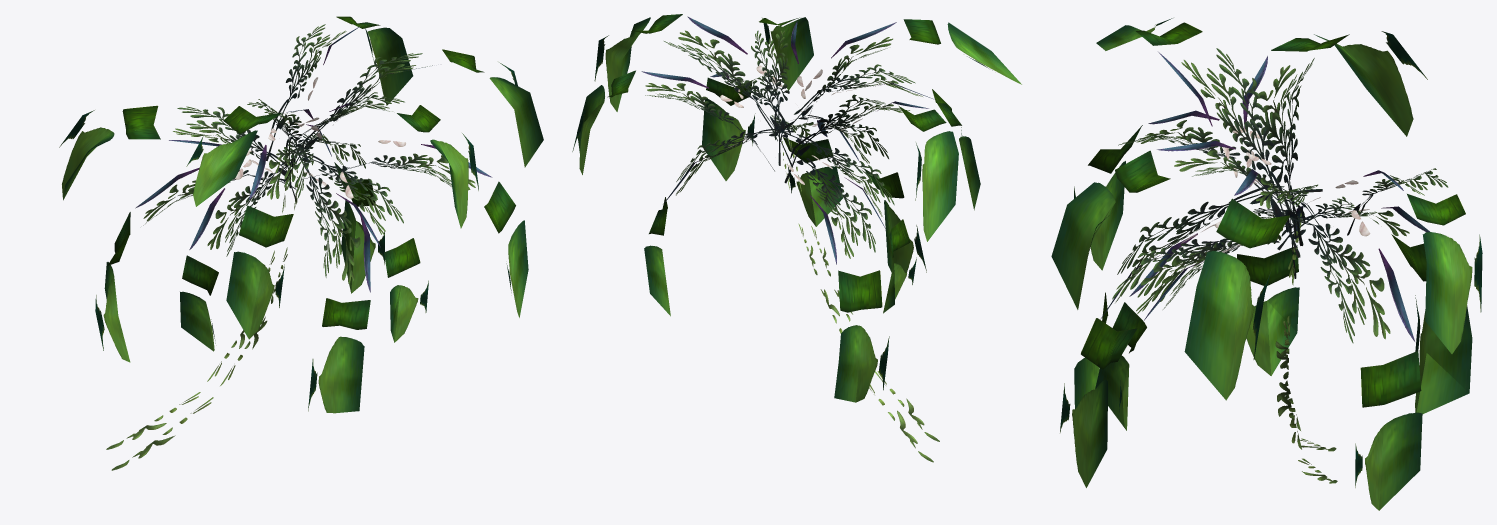
File: S_Tree_Green053_1.FBX
3 renders of one model, left to right at view 1: azimuth 30°, elevation 25°; view 2: azimuth 150°, elevation 25°; view 3: azimuth 270°, elevation 25°, orthographic. The views are drawn at different scales.
Parts seen in each view (by area): view 1: S_Tree_Green053_1; view 2: S_Tree_Green053_1; view 3: S_Tree_Green053_1.
Part boxes in pixels (box(x1,y1,x2,y2)): S_Tree_Green053_1: box(59, 16, 543, 470); S_Tree_Green053_1: box(572, 14, 1021, 462); S_Tree_Green053_1: box(1051, 18, 1482, 510).
Size of the model in its own units: 902 by 551 by 748.
